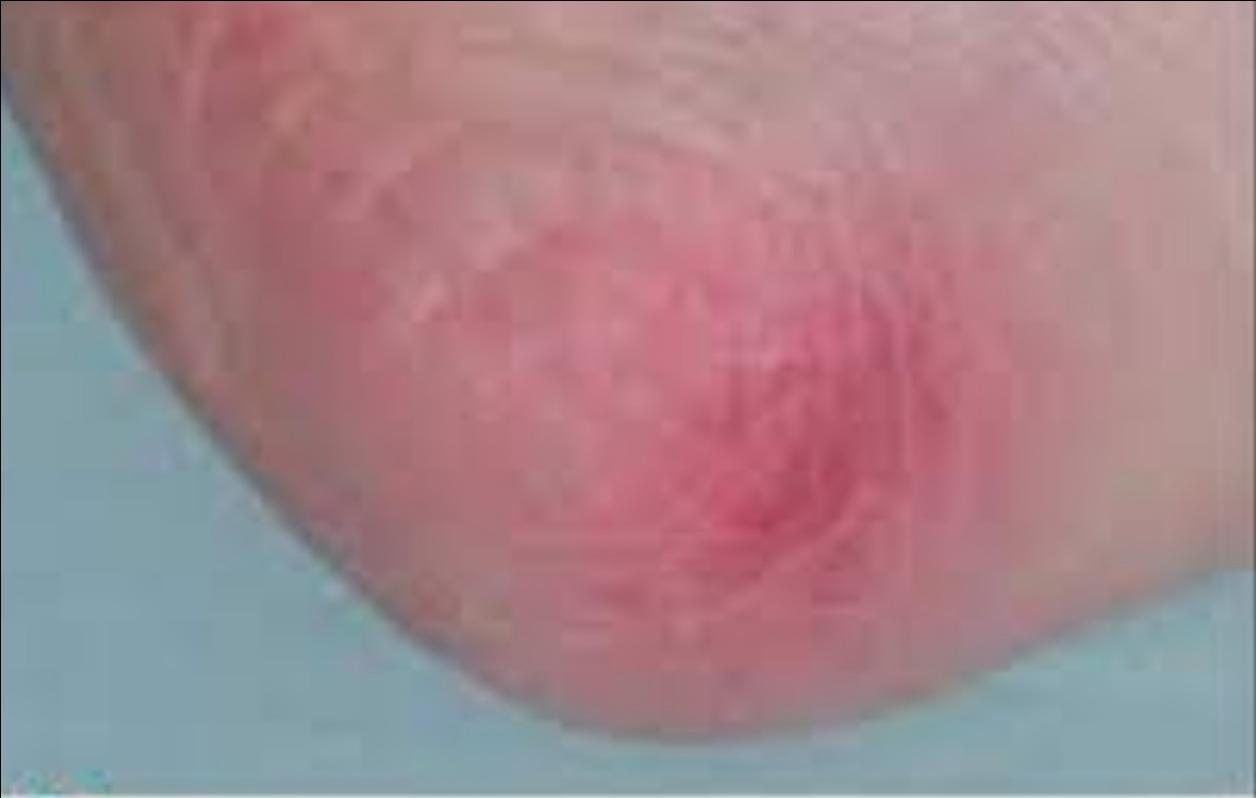Stage1: (175, 0, 1048, 706)
